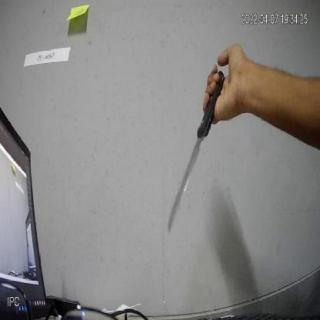knife: (171, 69, 224, 229)
